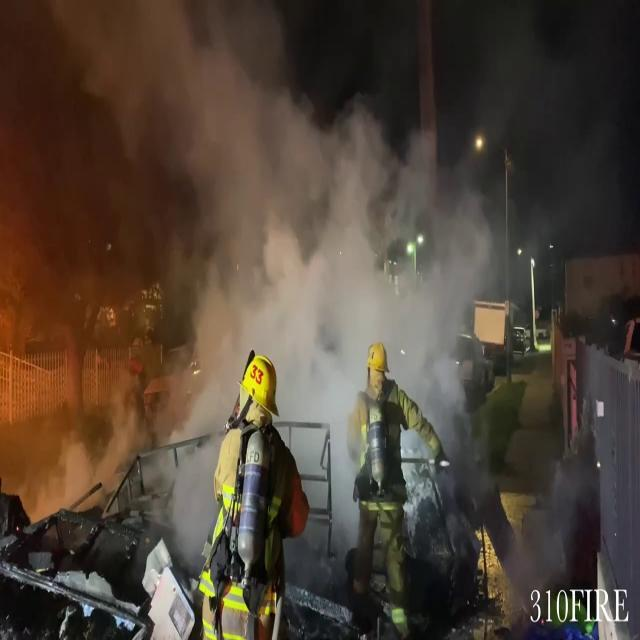Smoke: (1, 0, 497, 486)
